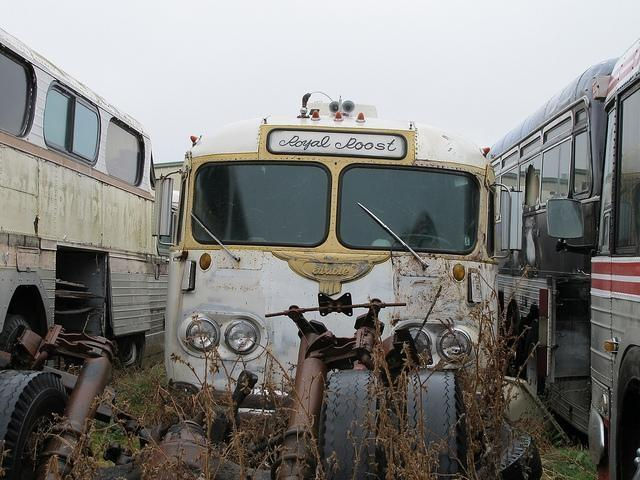bus: (160, 123, 510, 428), (489, 41, 640, 475), (0, 21, 180, 364)
